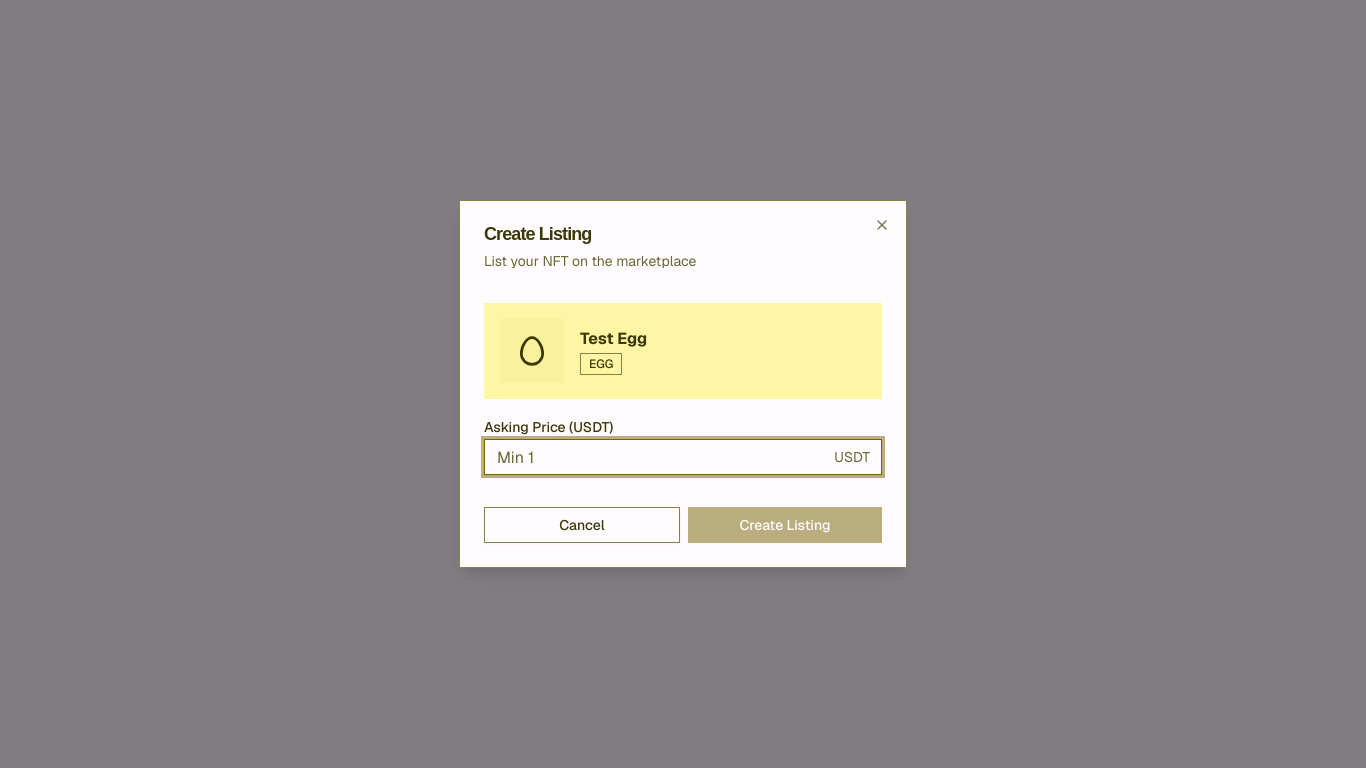
Test case: CreateListingDialog › validates minimum price by NFT type
Type "0.5" into the field with placeholder "Min 1" at [683, 457], box [484,439,882,475]
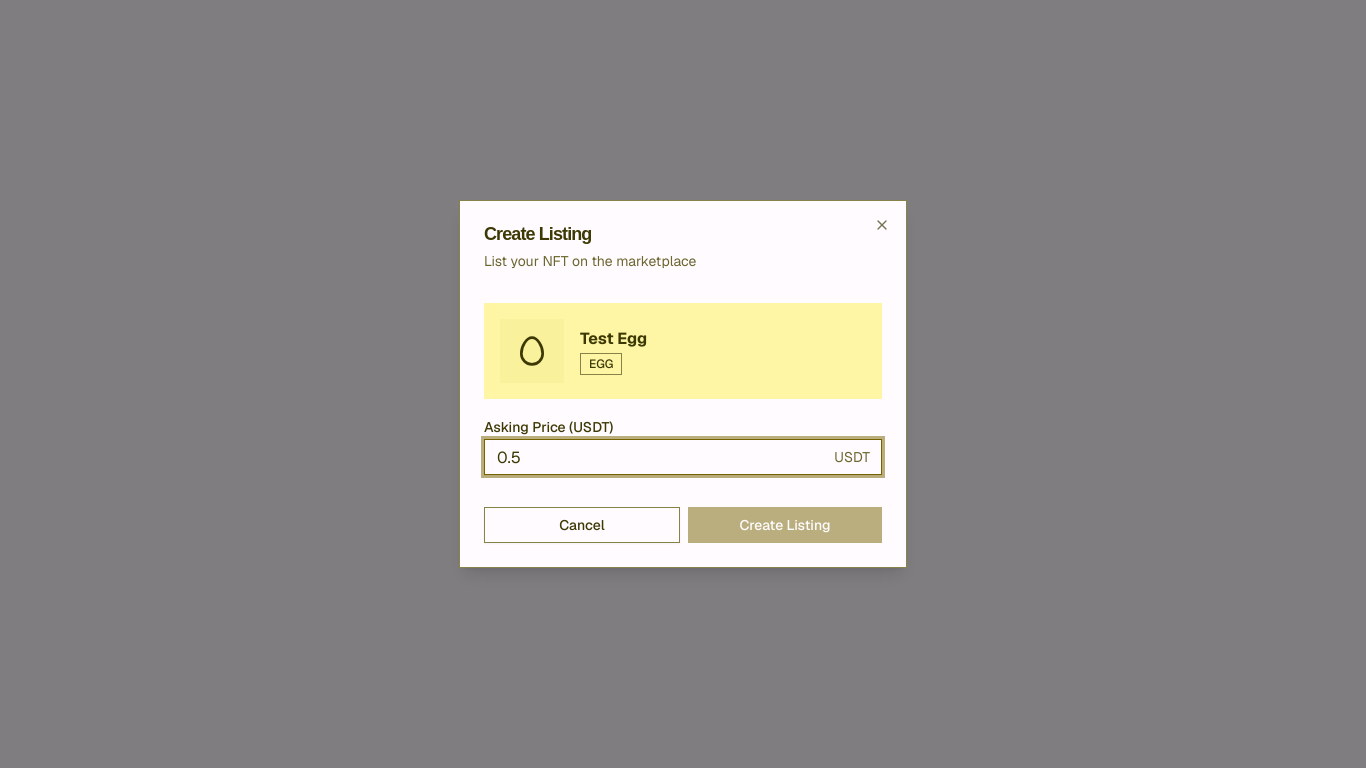
Expected: the button "Create Listing" is disabled, [688,507,882,543]
Replace the text in the field with placeholder "Min 1" with "1" at [683, 457], box [484,439,882,475]
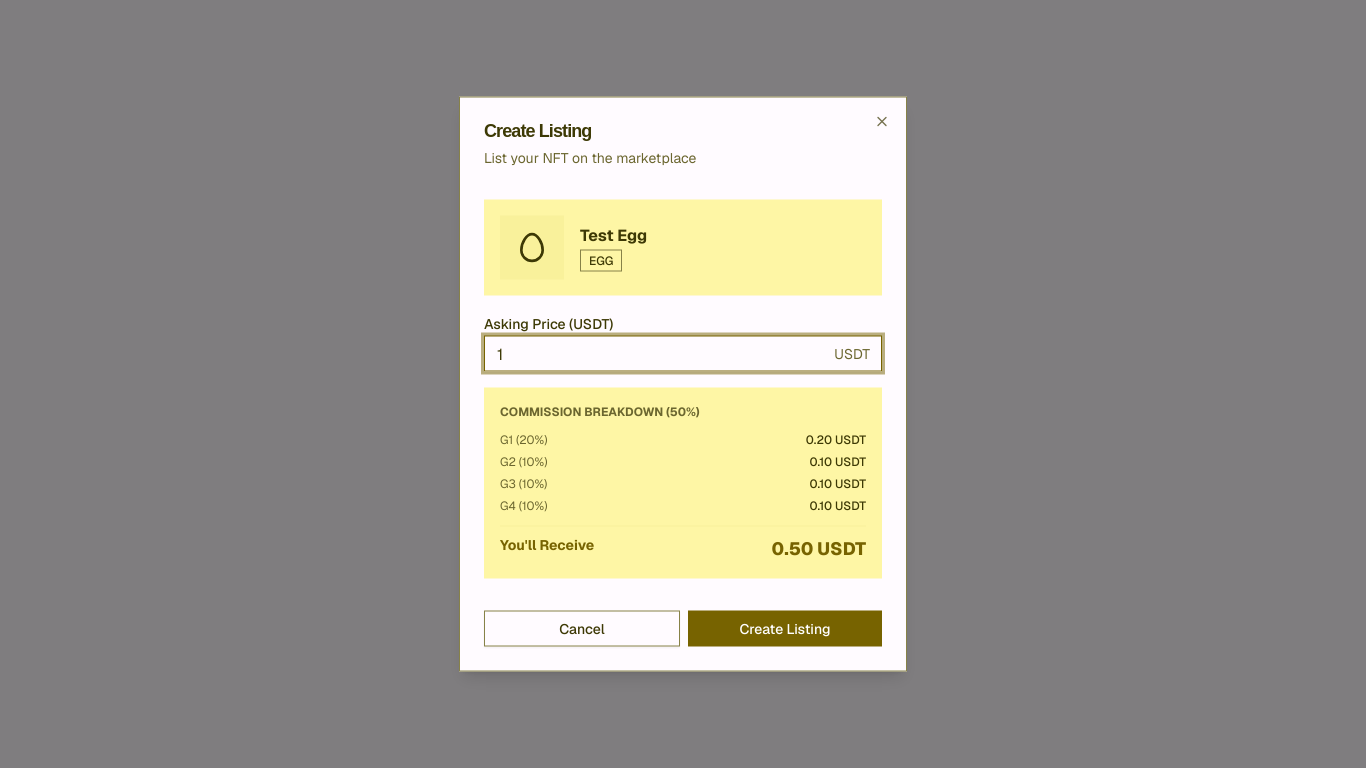
Now the button "Create Listing" is enabled, box [688,610,882,646]
